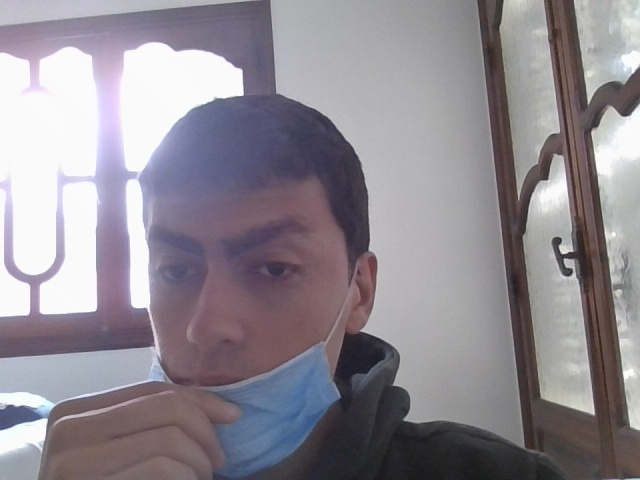mask_weared_incorrect: (137, 109, 361, 479)
